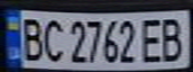2: (66, 16, 87, 64), (118, 16, 139, 64)
6: (103, 17, 124, 64)
7: (84, 17, 103, 64)
B: (157, 15, 190, 63), (15, 14, 45, 62)
C: (39, 15, 66, 63)
E: (139, 15, 166, 64)
